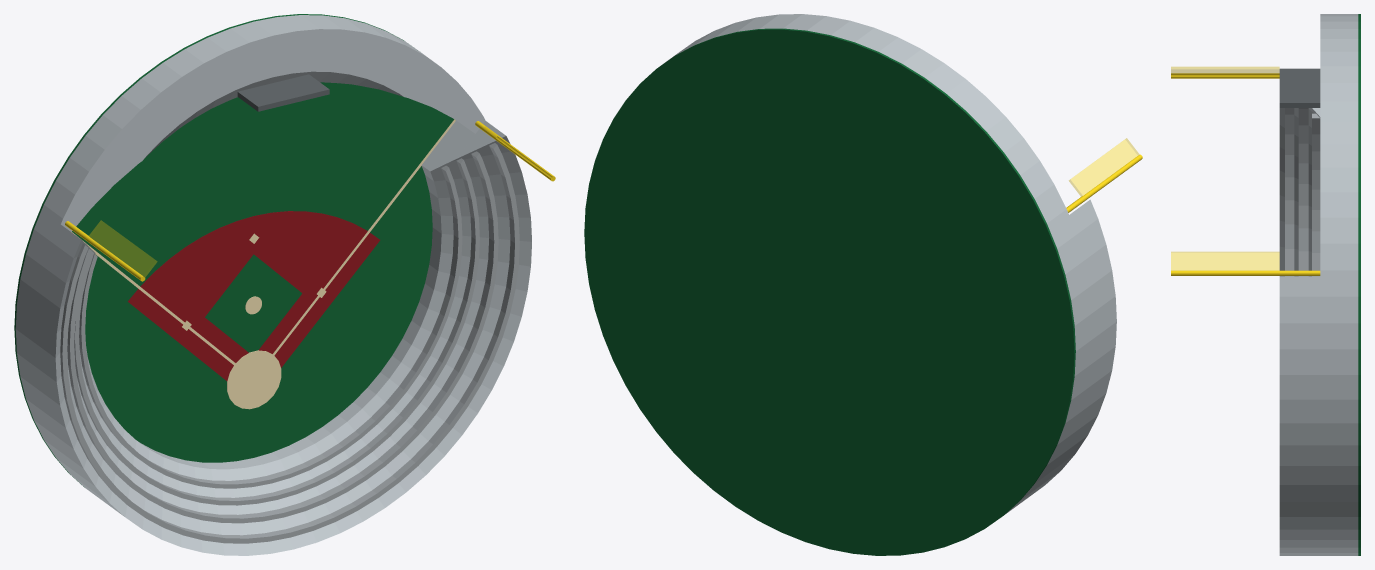
Rendered from tinker.obj.
3 renders of one model, left to right at view 1: azimuth 30°, elevation 25°; view 2: azimuth 150°, elevation 25°; view 3: azimuth 270°, elevation 25°, orthographic. The views are drawn at different scales.
Parts seen in each view (by area): view 1: group_0_1206582, group_0_12568524, group_0_10988977, group_0_9771553, group_0_16311991, group_0_6383466, group_0_-1023419110, group_0_16768282; view 2: group_0_1206582, group_0_12568524, group_0_-1023419110; view 3: group_0_12568524, group_0_10988977, group_0_-1023419110, group_0_6383466, group_0_1206582, group_0_16768282.
Part boxes in pixels (x1,y1,x2,y2): group_0_1206582: (14,14,454,487); group_0_12568524: (15,15,531,555); group_0_10988977: (60,143,519,543); group_0_9771553: (128,211,380,381); group_0_16311991: (71,119,455,409); group_0_6383466: (237,74,329,111); group_0_-1023419110: (89,126,551,277); group_0_16768282: (65,121,555,281); group_0_1206582: (584,28,1075,555); group_0_12568524: (661,14,1116,514); group_0_-1023419110: (1069,138,1139,196); group_0_12568524: (1279,14,1358,555); group_0_10988977: (1285,108,1320,276); group_0_-1023419110: (1171,67,1279,270); group_0_6383466: (1279,68,1320,107); group_0_1206582: (1358,14,1360,555); group_0_16768282: (1171,73,1320,275).
Bounding box in the file's own units: 200 × 200 × 70.
